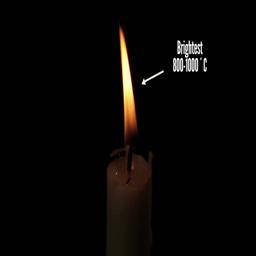fire: (118, 29, 135, 136)
